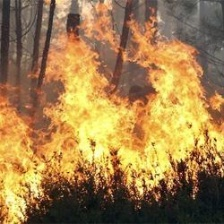fire: (1, 21, 222, 220)
